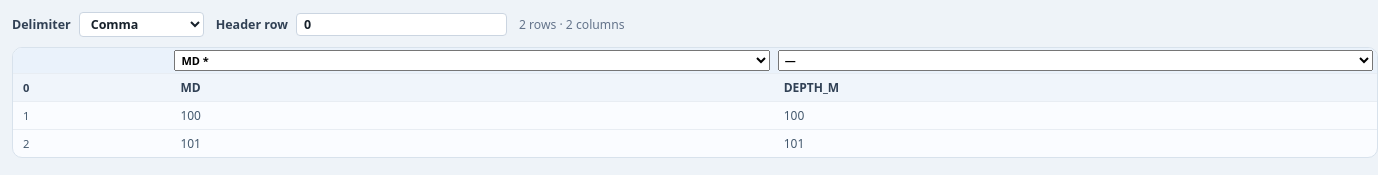
Test: Import mapping UX › reassigns a mapped field to another column without manual clearing
Expected: the 2nd dropdown shows "MD *", [174,50,770,71]
Select "MD *" in the 3rd dropdown at (1075, 60), box [778,50,1373,71]
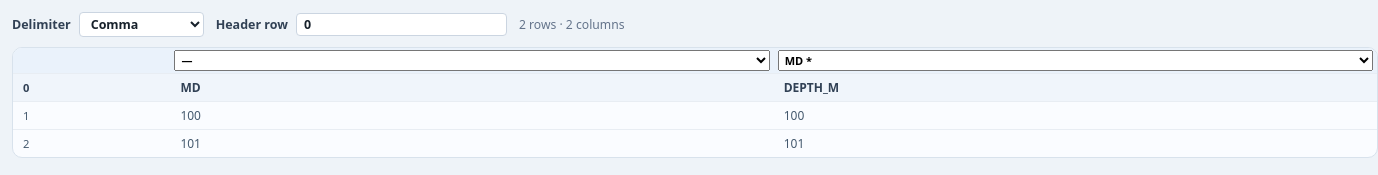
Result: the 2nd dropdown shows "—" at [174,50,770,71]
